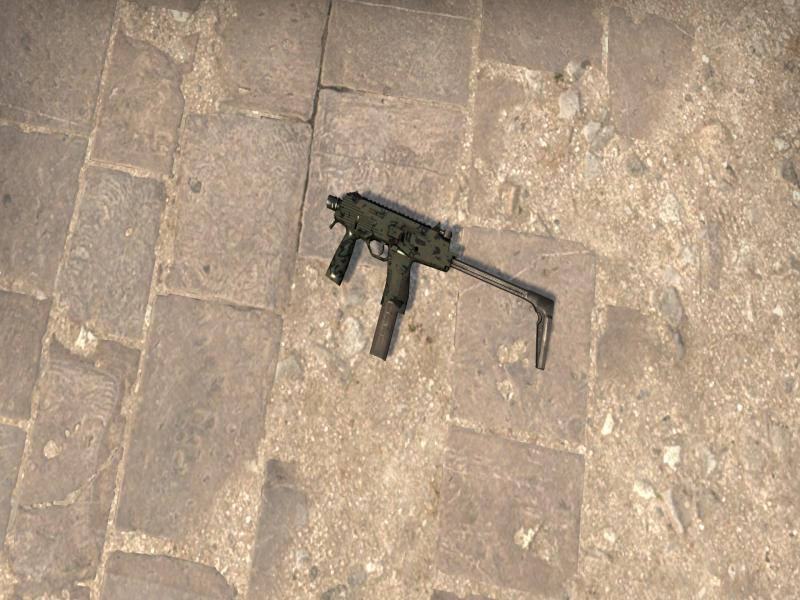MP9: (326, 191, 554, 369)
